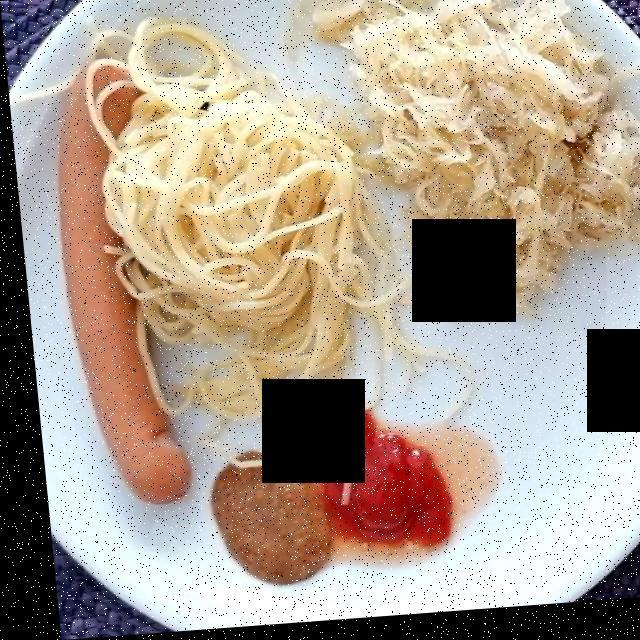ketchup: (280, 396, 441, 549)
mustard: (213, 456, 321, 579)
pasta: (93, 29, 399, 414)
sauerkraut: (291, 10, 640, 295)
sausage: (61, 66, 185, 510)
